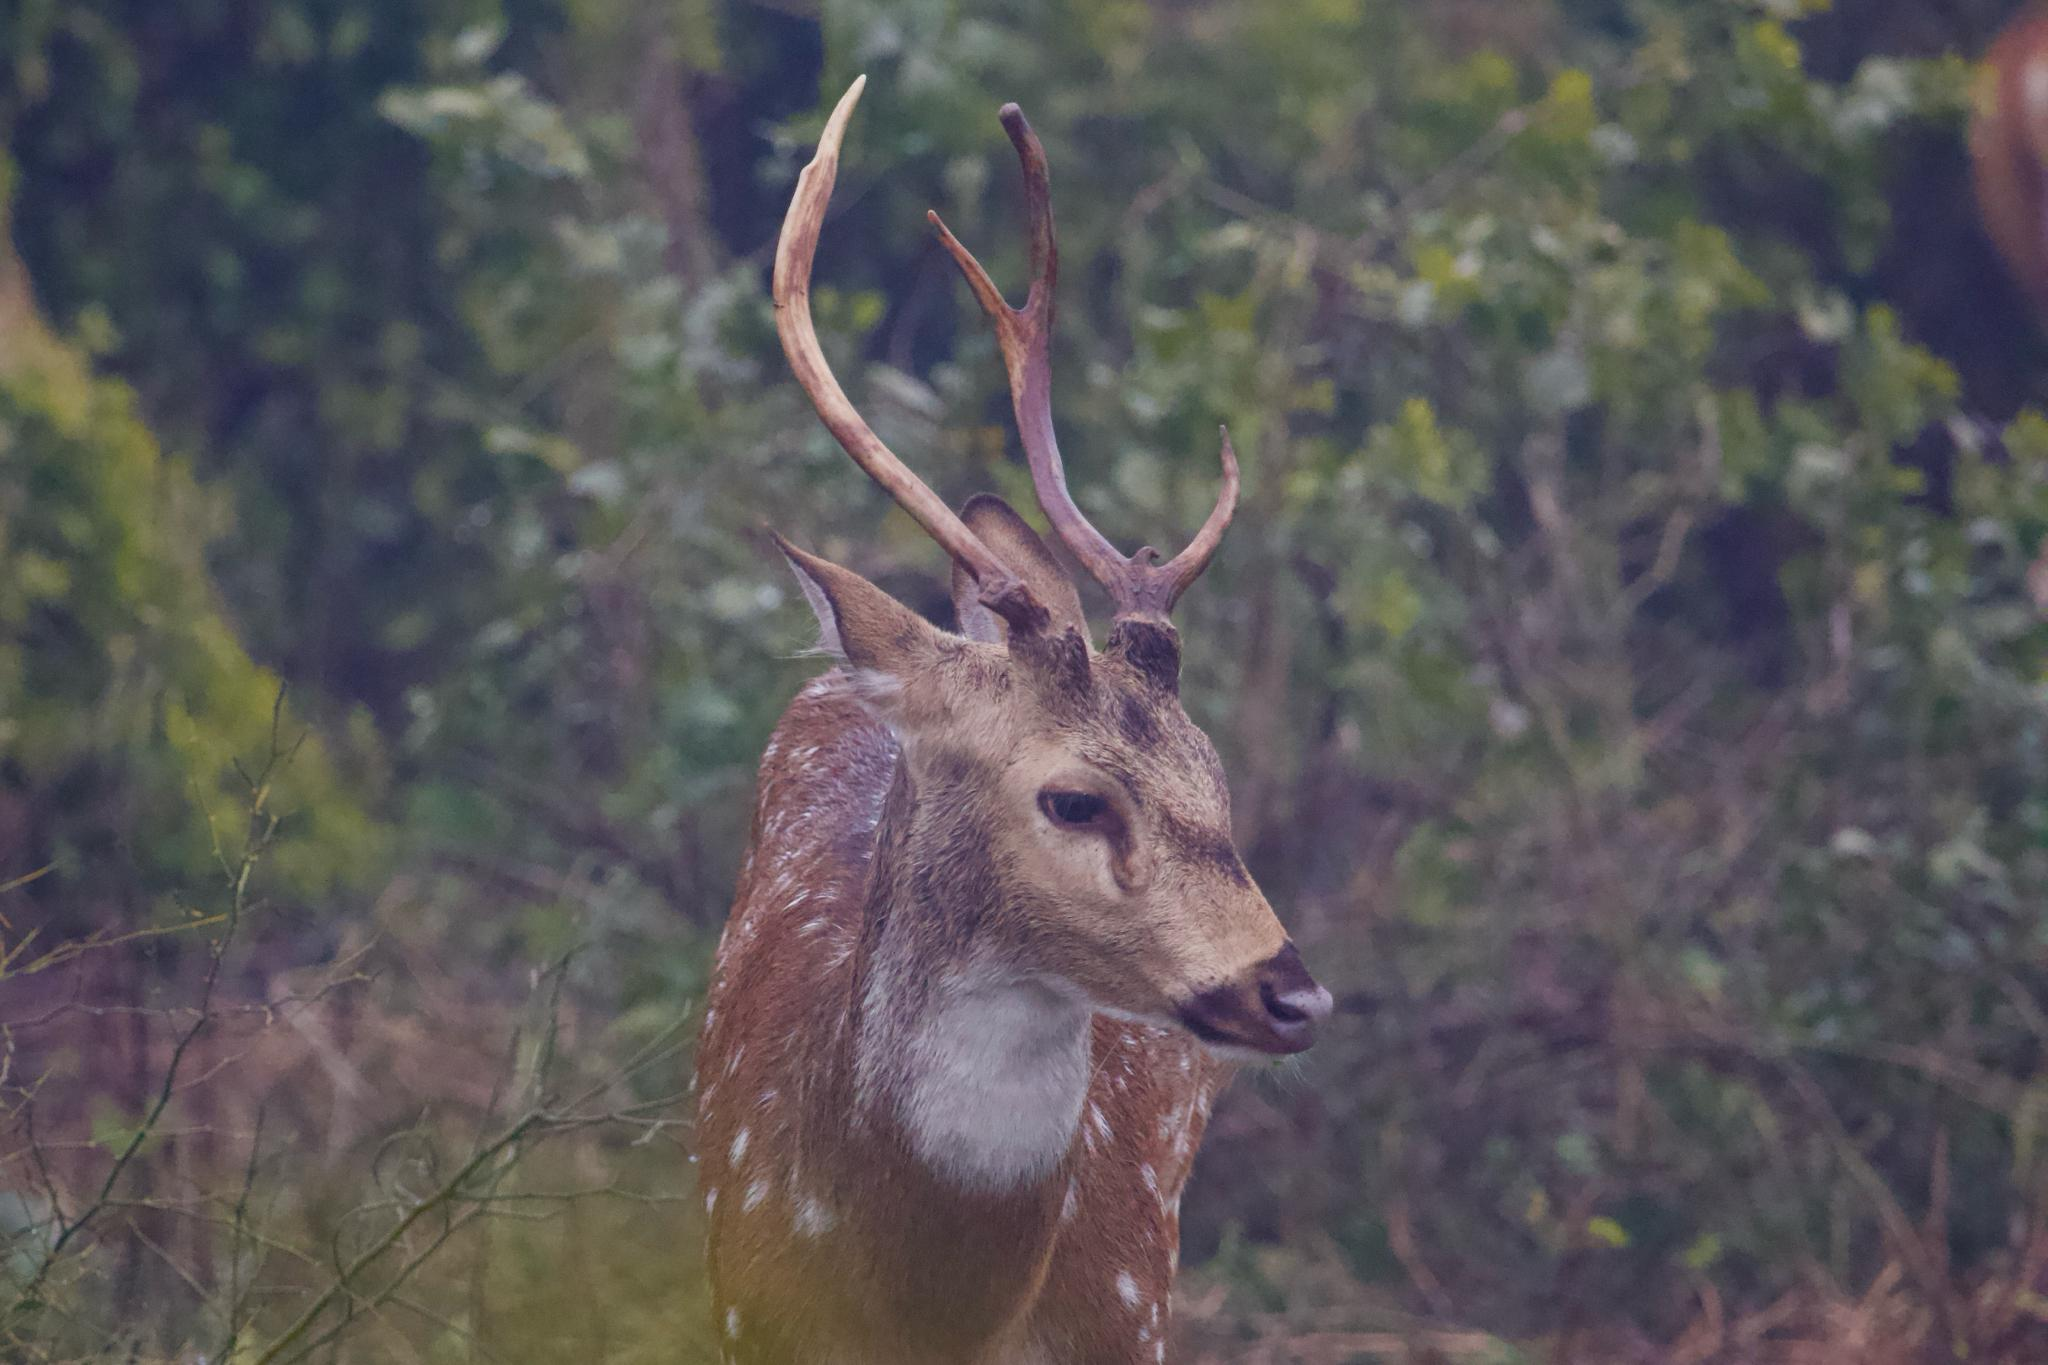Deer: (697, 79, 1332, 1363)
